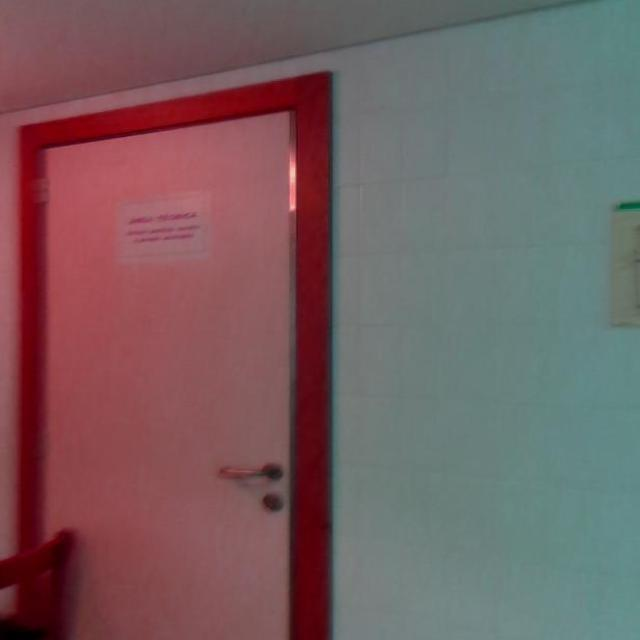door: (11, 71, 337, 640)
